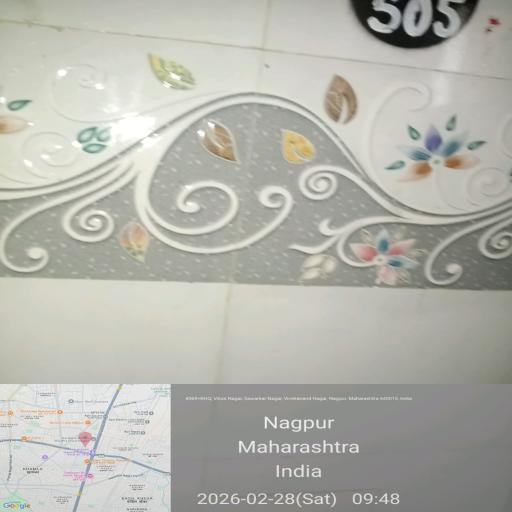clean_floor: (0, 0, 495, 397)
